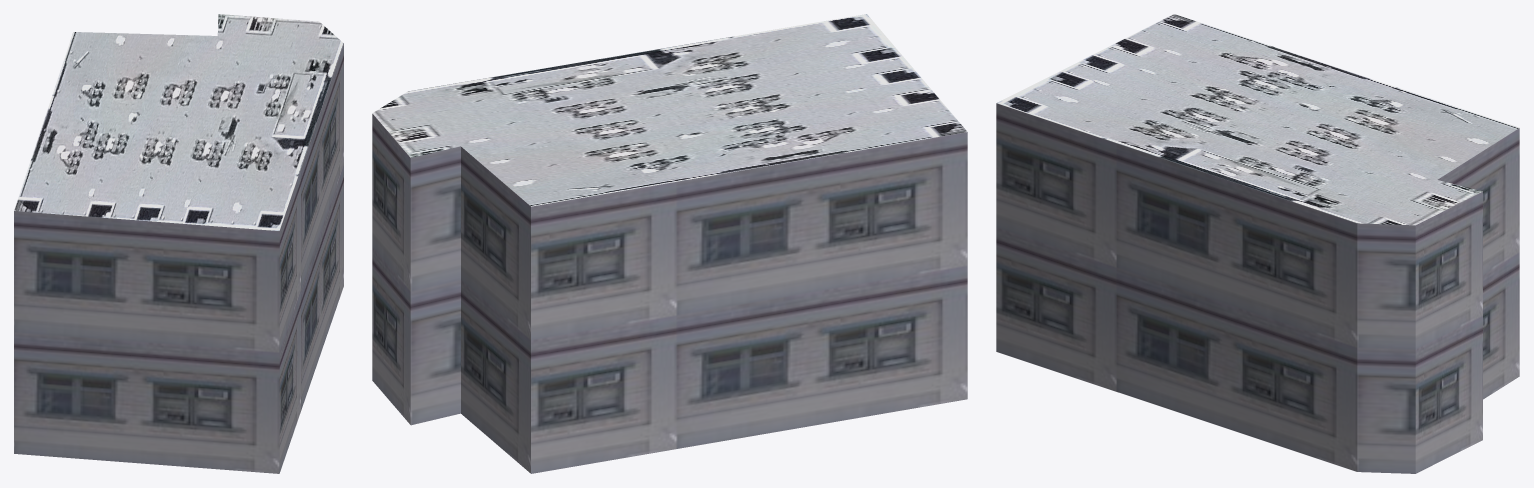
File: ResTex__1189.fbx
The picture shows the model from 3 angles, left to right: view 1: azimuth 30°, elevation 25°; view 2: azimuth 150°, elevation 25°; view 3: azimuth 270°, elevation 25°; orthographic projection. The views are drawn at different scales.
Visible parts, largest first — view 1: CityEngineMaterial_1_m, CityEngineMaterial_m; view 2: CityEngineMaterial_1_m, CityEngineMaterial_m; view 3: CityEngineMaterial_1_m, CityEngineMaterial_m.
Part boxes in pixels (<box>): CityEngineMaterial_1_m: <box>14,44,343,473</box>; CityEngineMaterial_m: <box>14,14,343,230</box>; CityEngineMaterial_1_m: <box>372,114,967,473</box>; CityEngineMaterial_m: <box>372,14,967,206</box>; CityEngineMaterial_1_m: <box>996,103,1519,473</box>; CityEngineMaterial_m: <box>996,14,1519,225</box>.
Size of the model in its own units: 10.94 by 6 by 11.45.
Materials: 2 (2 with a texture image).
